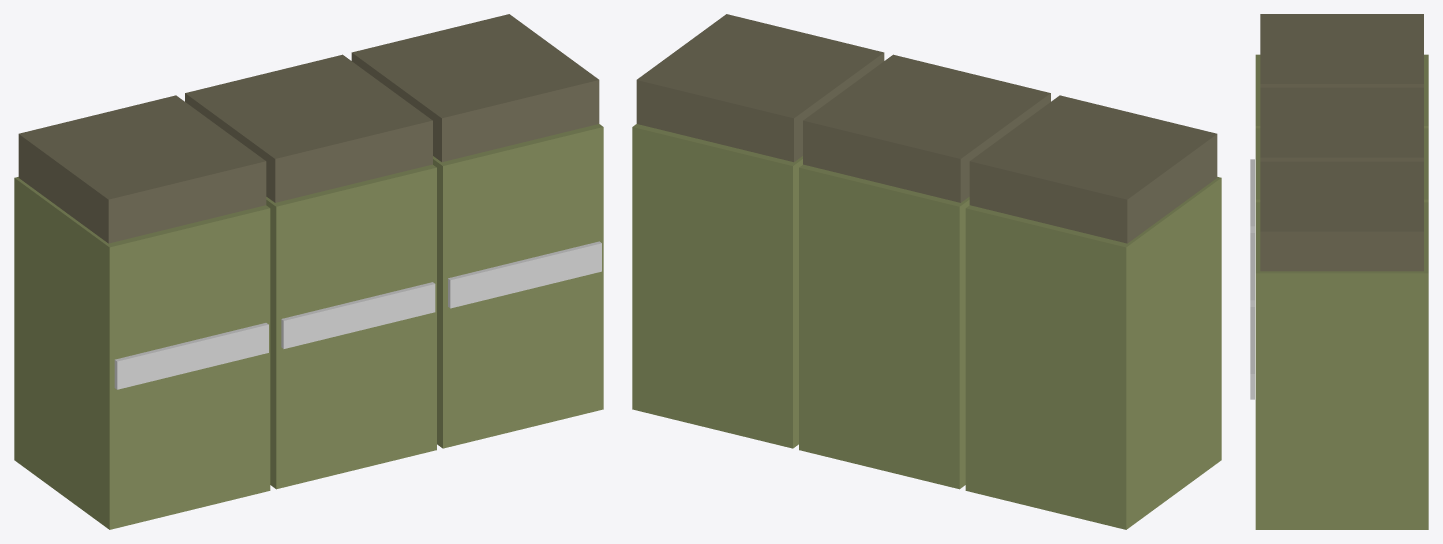
File: SM_HescoCorto3_v3_RemateSacos_e0_Sano_LOD1.fbx
The picture shows the model from 3 angles, left to right: view 1: azimuth 30°, elevation 25°; view 2: azimuth 150°, elevation 25°; view 3: azimuth 270°, elevation 25°; orthographic projection. The views are drawn at different scales.
Parts seen in each view (by area): view 1: SM_hesco_piezas_v92_LOD1; view 2: SM_hesco_piezas_v92_LOD1; view 3: SM_hesco_piezas_v92_LOD1.
Part boxes in pixels (left/top/right/bottom): SM_hesco_piezas_v92_LOD1: left=14, top=14, right=603, bottom=529; SM_hesco_piezas_v92_LOD1: left=632, top=14, right=1221, bottom=529; SM_hesco_piezas_v92_LOD1: left=1250, top=14, right=1428, bottom=529.
Size of the model in its own units: 3.29 by 2.09 by 1.13.
